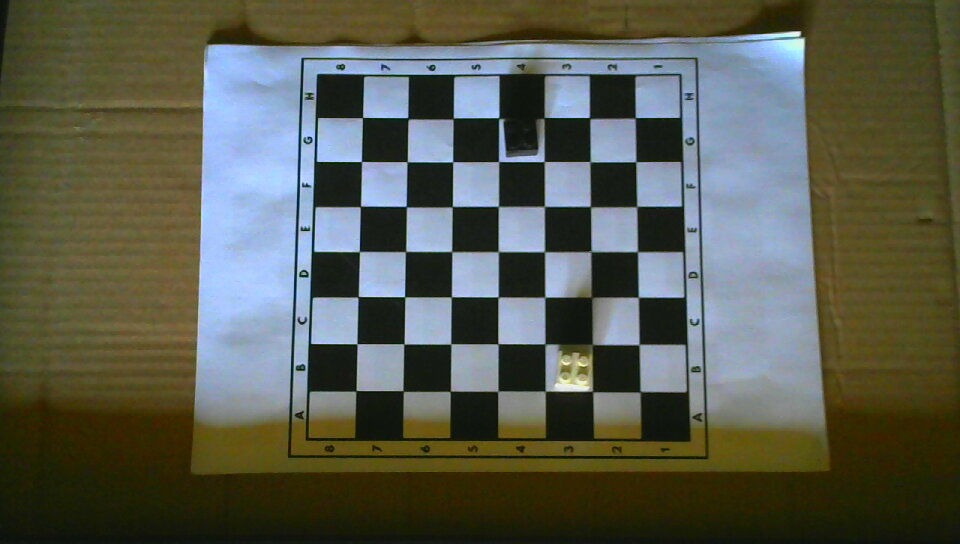bp: (501, 115, 540, 158)
wp: (554, 346, 592, 390)
